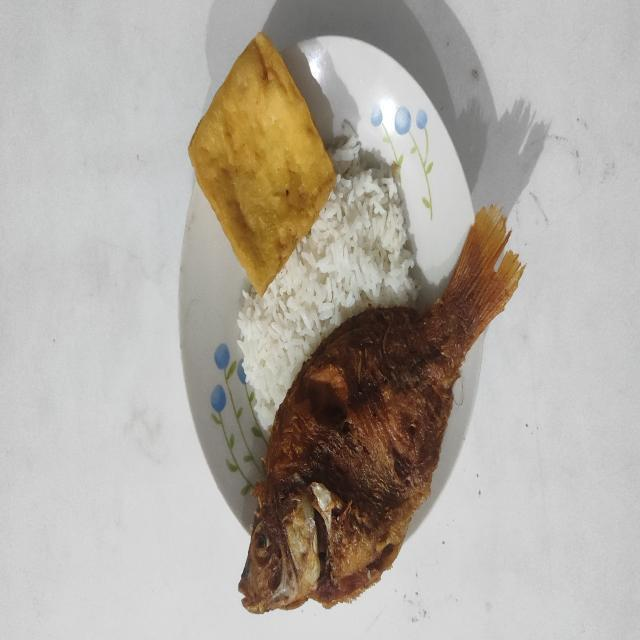ikan_mujair: (238, 206, 524, 613)
nasi_putih: (237, 136, 418, 430)
tahu_goreng: (189, 32, 336, 296)
